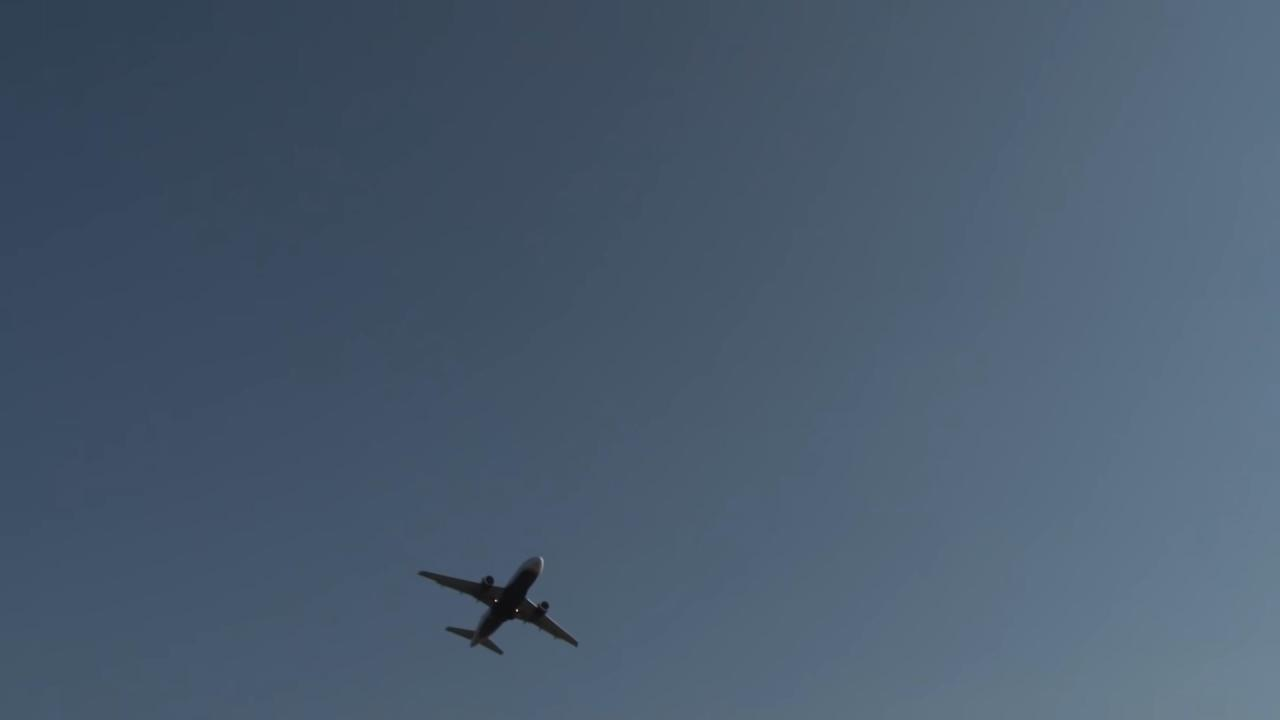Airplane: (406, 543, 592, 668)
